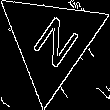N_SW: (22, 9, 81, 74)
